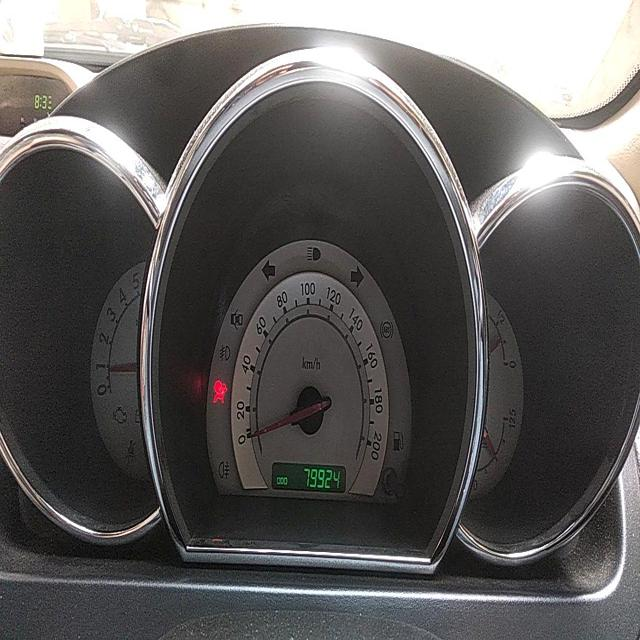odometer: (300, 461, 342, 490)
